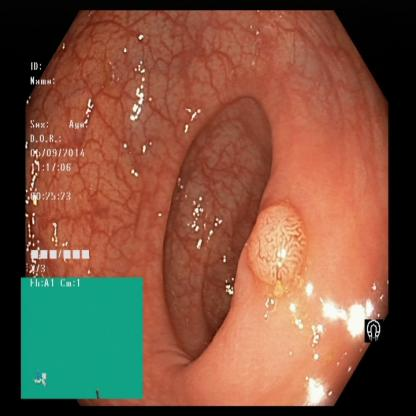Labels: (27, 59, 102, 277), (20, 276, 144, 397), (361, 307, 390, 348)
Polyps: (238, 200, 315, 289)
